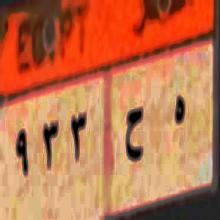3: (68, 100, 89, 179), (37, 113, 60, 182)
7aa: (120, 99, 147, 179)
9: (15, 121, 30, 189)
haa: (169, 82, 191, 146)
